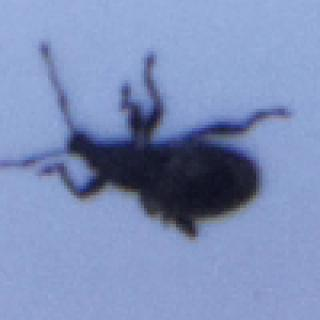bvw: (1, 43, 293, 241)
